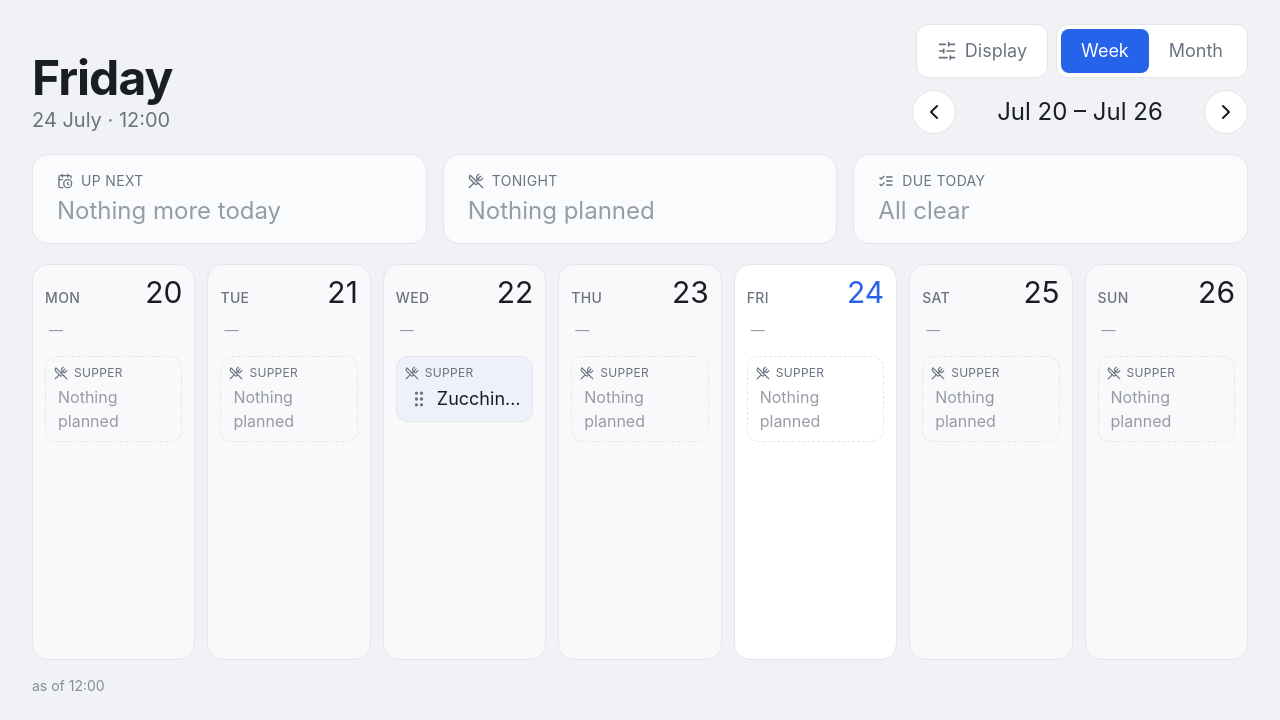
HearthPage planned suppers › renders a supper whose recipe is not on the recipe list's first page, with its grip
Expected: the button named "Move meal" is shown, [405,385,433,413]
Note: ...and opens the recipe overlay from that same entry.
Click the button "Zucchini bake" at (480, 399), box [437,385,524,413]
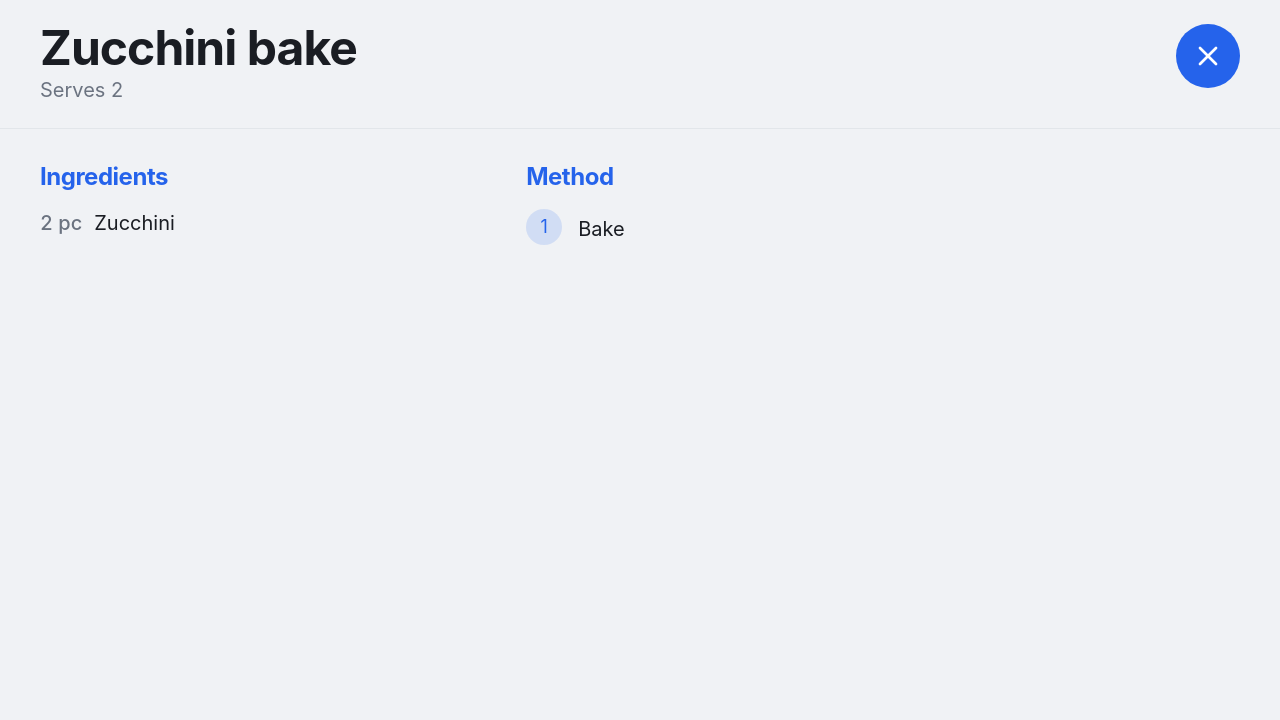
Now the text "Bake" is shown, box [578,209,625,246]
